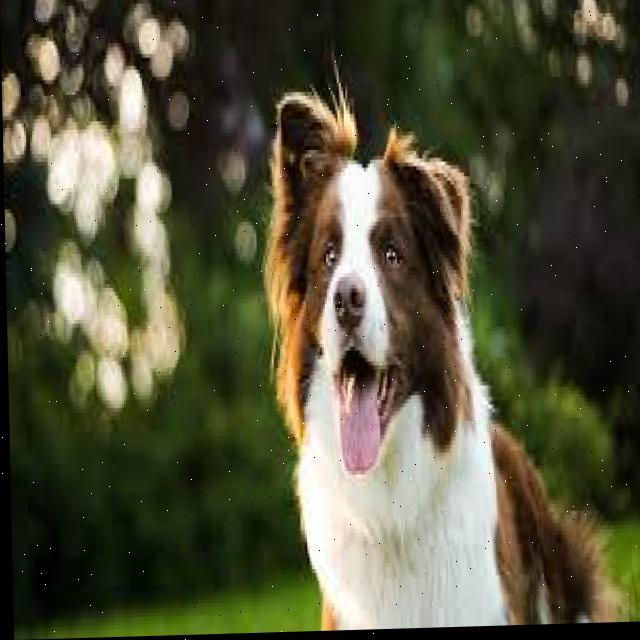BORDER_COLLIE: (242, 67, 640, 634)
